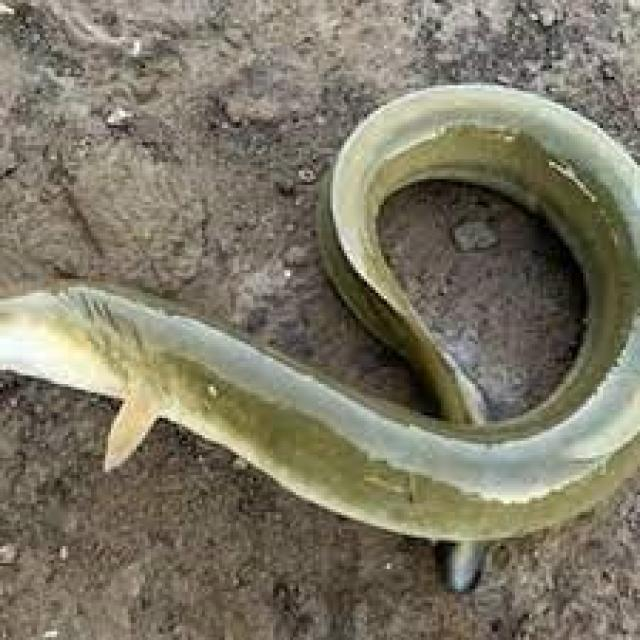Freshwater-Eel: (0, 45, 640, 561)
